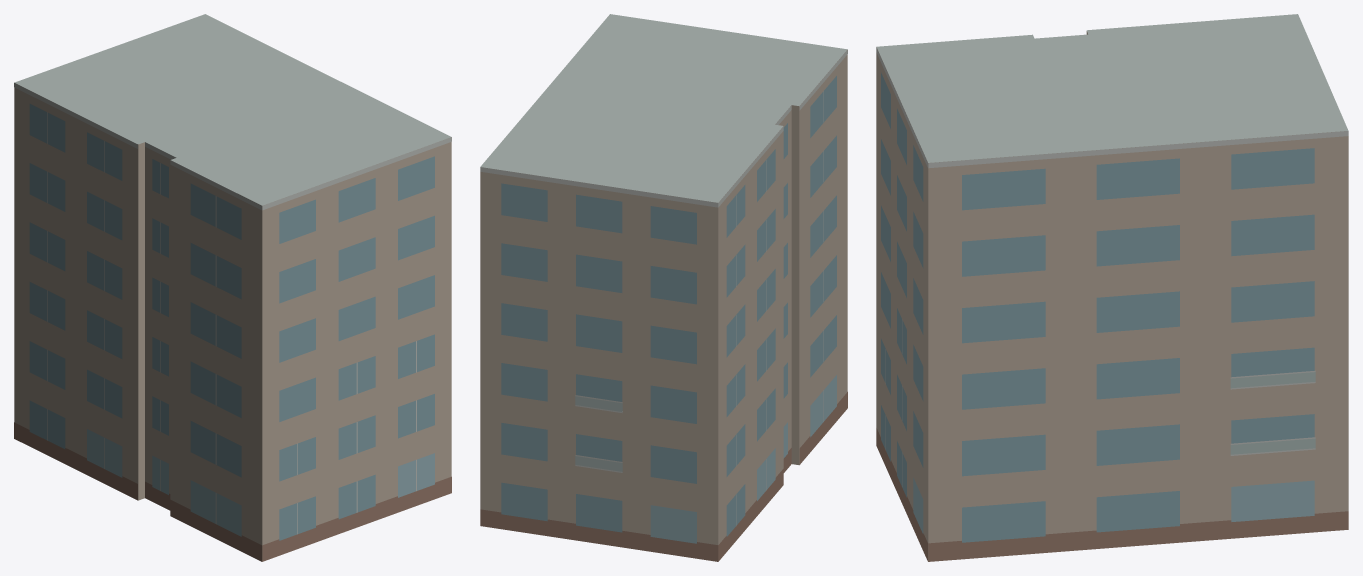
The model's file is survey-upis-33001326.glb.
The picture shows the model from 3 angles, left to right: view 1: azimuth 30°, elevation 25°; view 2: azimuth 150°, elevation 25°; view 3: azimuth 270°, elevation 25°; orthographic projection. The views are drawn at different scales.
Parts seen in each view (by area): view 1: survey-upis-33001326.tmp; view 2: survey-upis-33001326.tmp; view 3: survey-upis-33001326.tmp.
Boxes of the visible parts, box(x1,y1,x2,y2) form: survey-upis-33001326.tmp: box(14, 14, 451, 561); survey-upis-33001326.tmp: box(480, 14, 847, 561); survey-upis-33001326.tmp: box(876, 14, 1348, 561).
Size of the model in its own units: 14.74 by 18.4 by 19.75.
